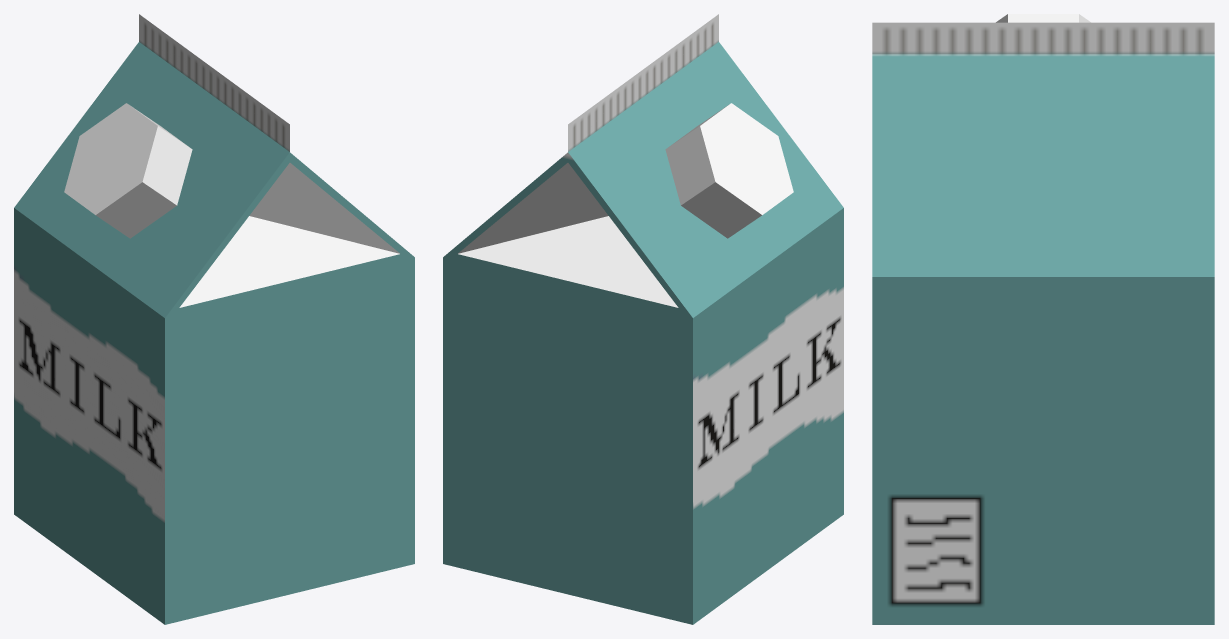
File: Milk.fbx
The picture shows the model from 3 angles, left to right: view 1: azimuth 30°, elevation 25°; view 2: azimuth 150°, elevation 25°; view 3: azimuth 270°, elevation 25°; orthographic projection. The views are drawn at different scales.
Visible parts, largest first — view 1: Cube.162; view 2: Cube.162; view 3: Cube.162.
Part boxes in pixels (bbox=[...]): Cube.162: bbox=[14, 14, 414, 624]; Cube.162: bbox=[443, 14, 843, 624]; Cube.162: bbox=[872, 14, 1214, 624].
Size of the model in its own units: 194 by 335 by 195.
